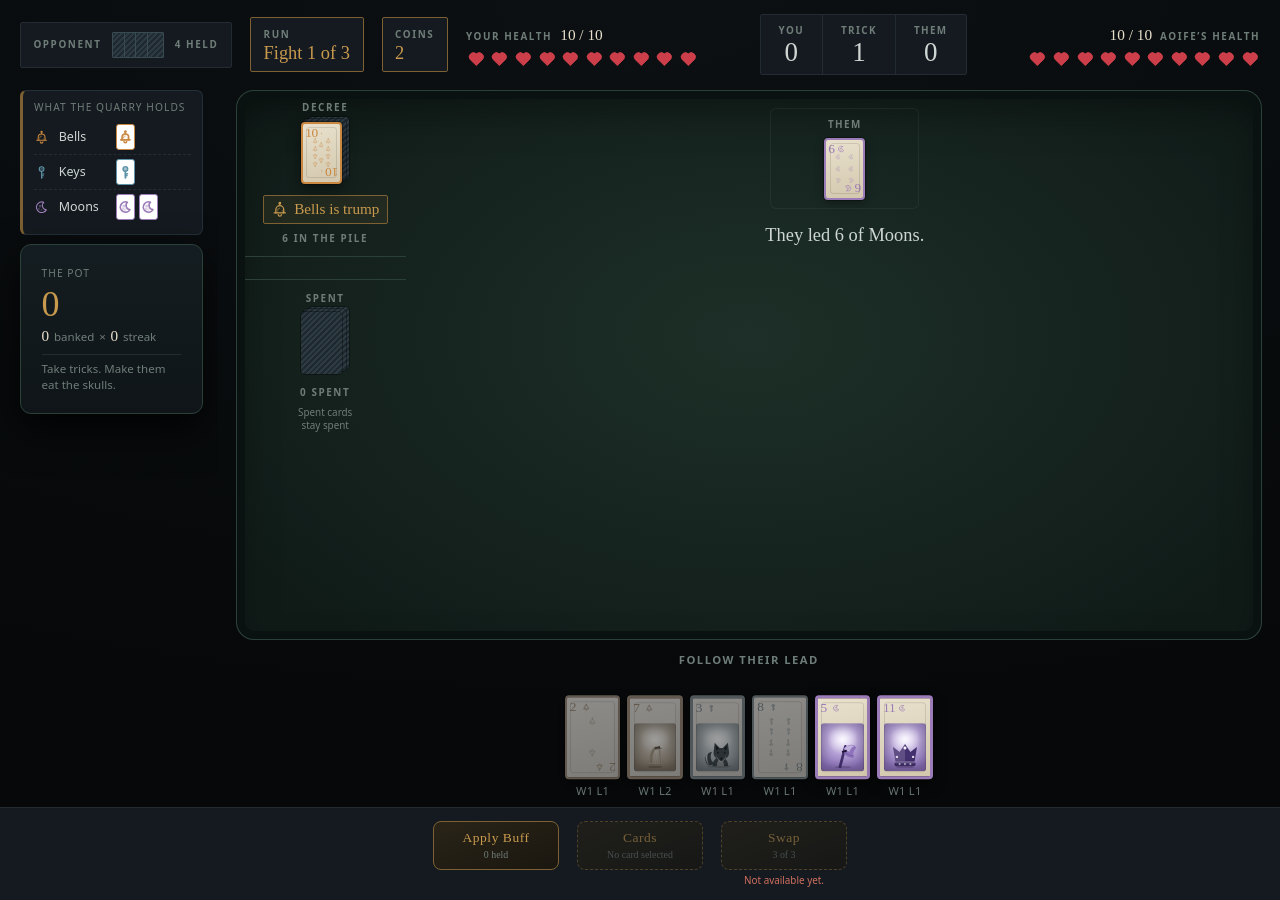
WarCouncilRound › DLR-148 — opening the buff gallery leaves the decree, the spent pile and the Quarry’s played card in the document (AC1, jsdom half)
This screenshot has width=1280, height=900.
Click the button "Apply Buff 0 held".
click(496, 845)  # box [433,821,559,870]
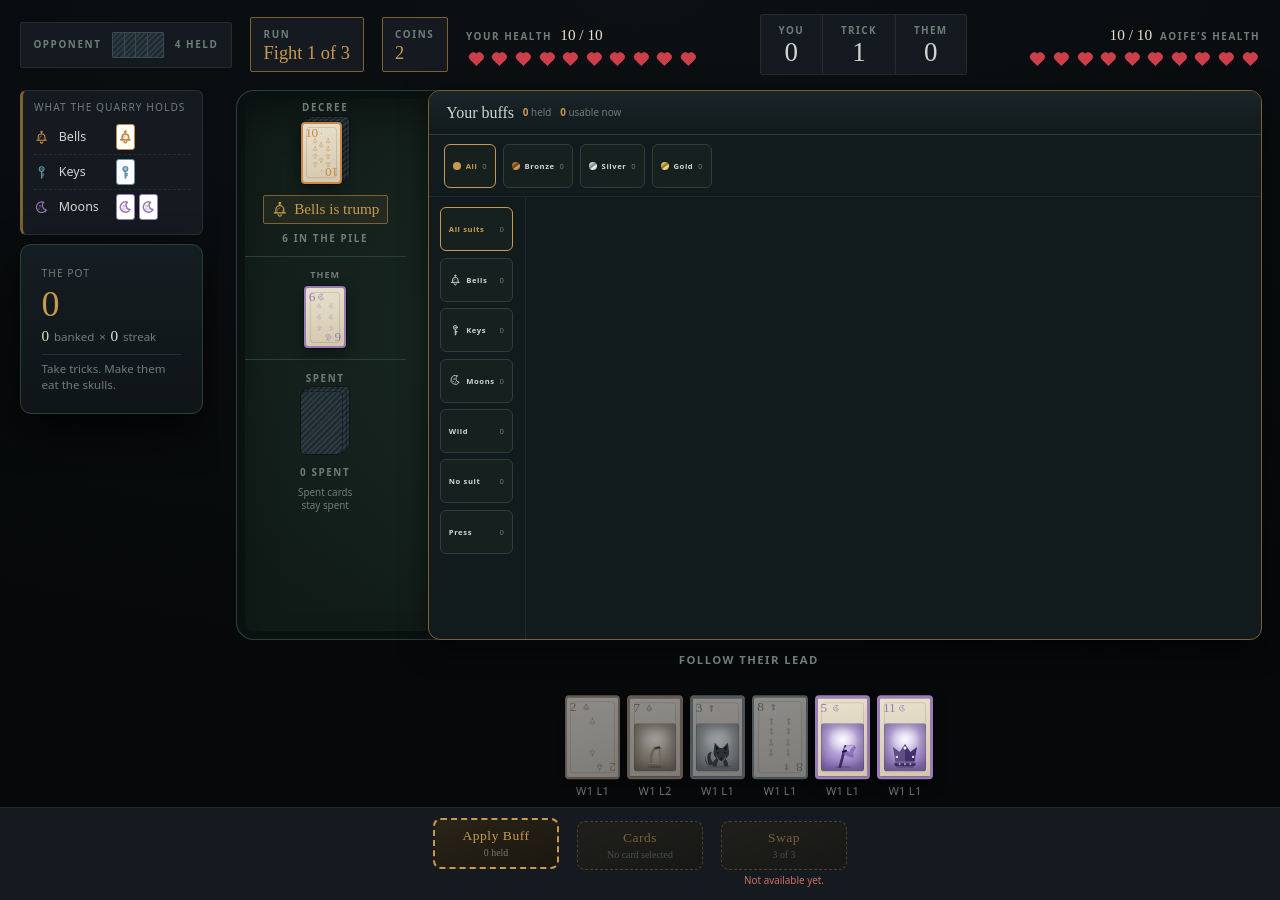
Expected: the button named "10 of Bells" is shown, [301,122,342,184]
Now the dialog "Your buffs" is shown, box [428,90,1262,640]
